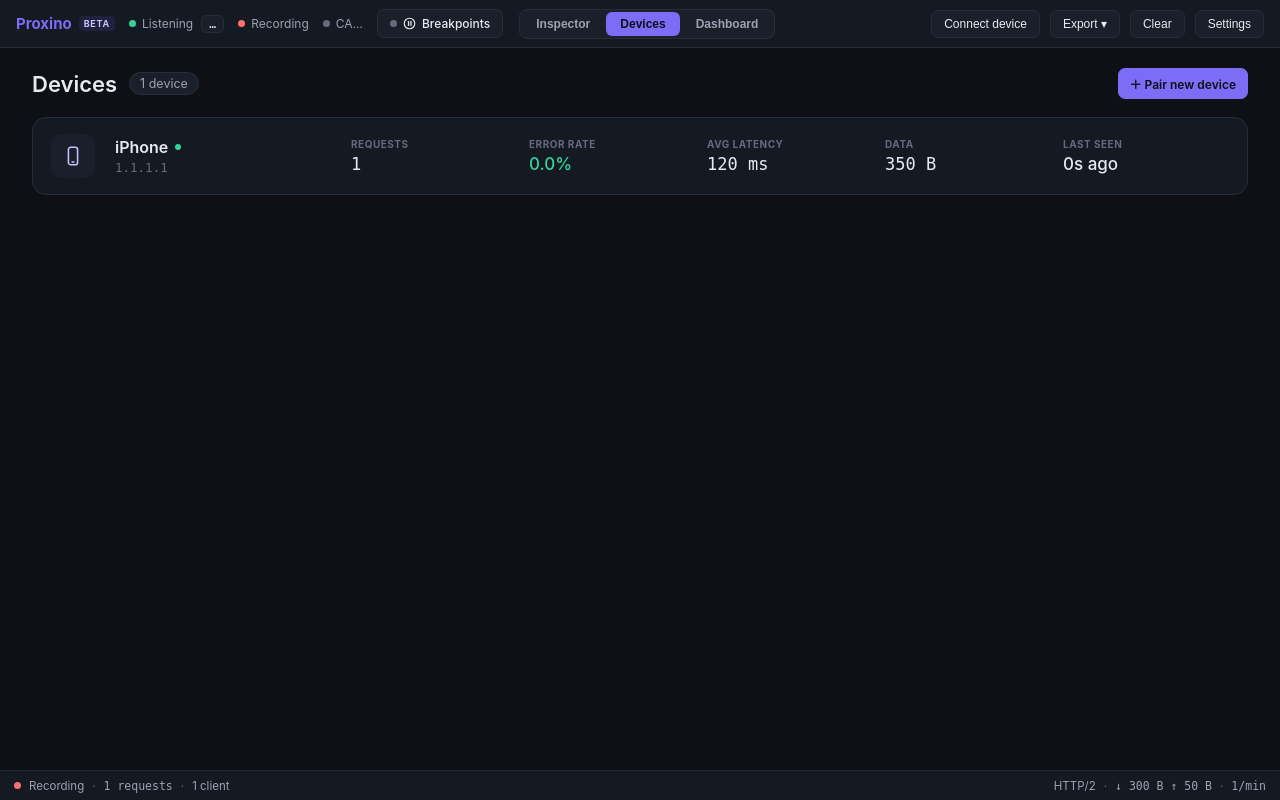
Test: view switching + empty state › switches to Dashboard and shows totals
What coordinates should you click on to do the following:
click the tab "Dashboard"
I would click on:
 (727, 24)
Its box is [682,12,772,36].
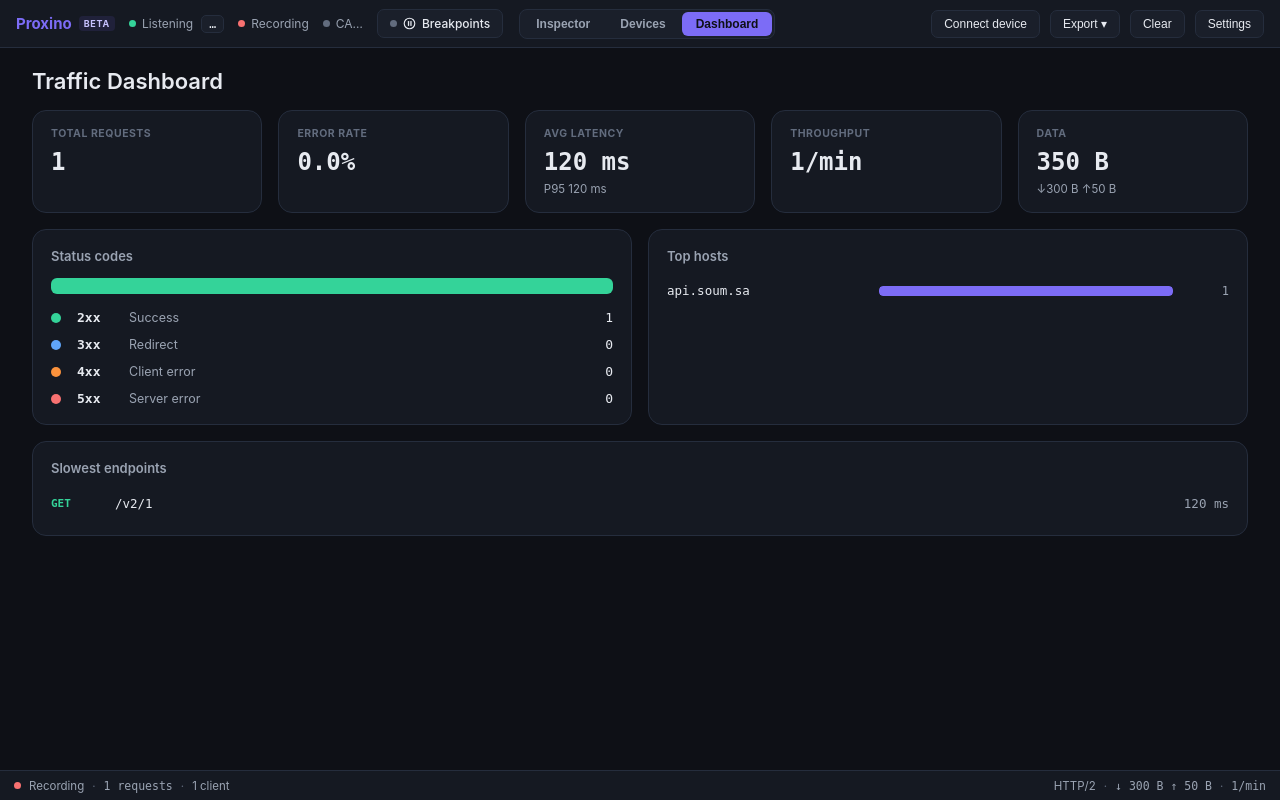
Now the heading "Traffic Dashboard" is shown, box [32,68,223,94]
Now the text "TOTAL REQUESTS" is shown, box [51,127,151,140]
